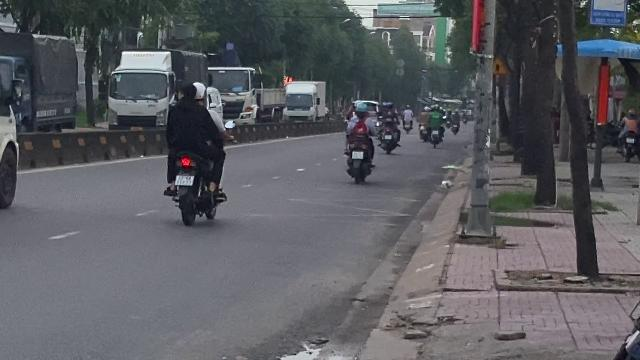helmet: (190, 82, 206, 100)
licenseplate: (175, 174, 193, 185)
motorcyclist: (159, 80, 229, 224)
nohelmet: (174, 82, 196, 104)
